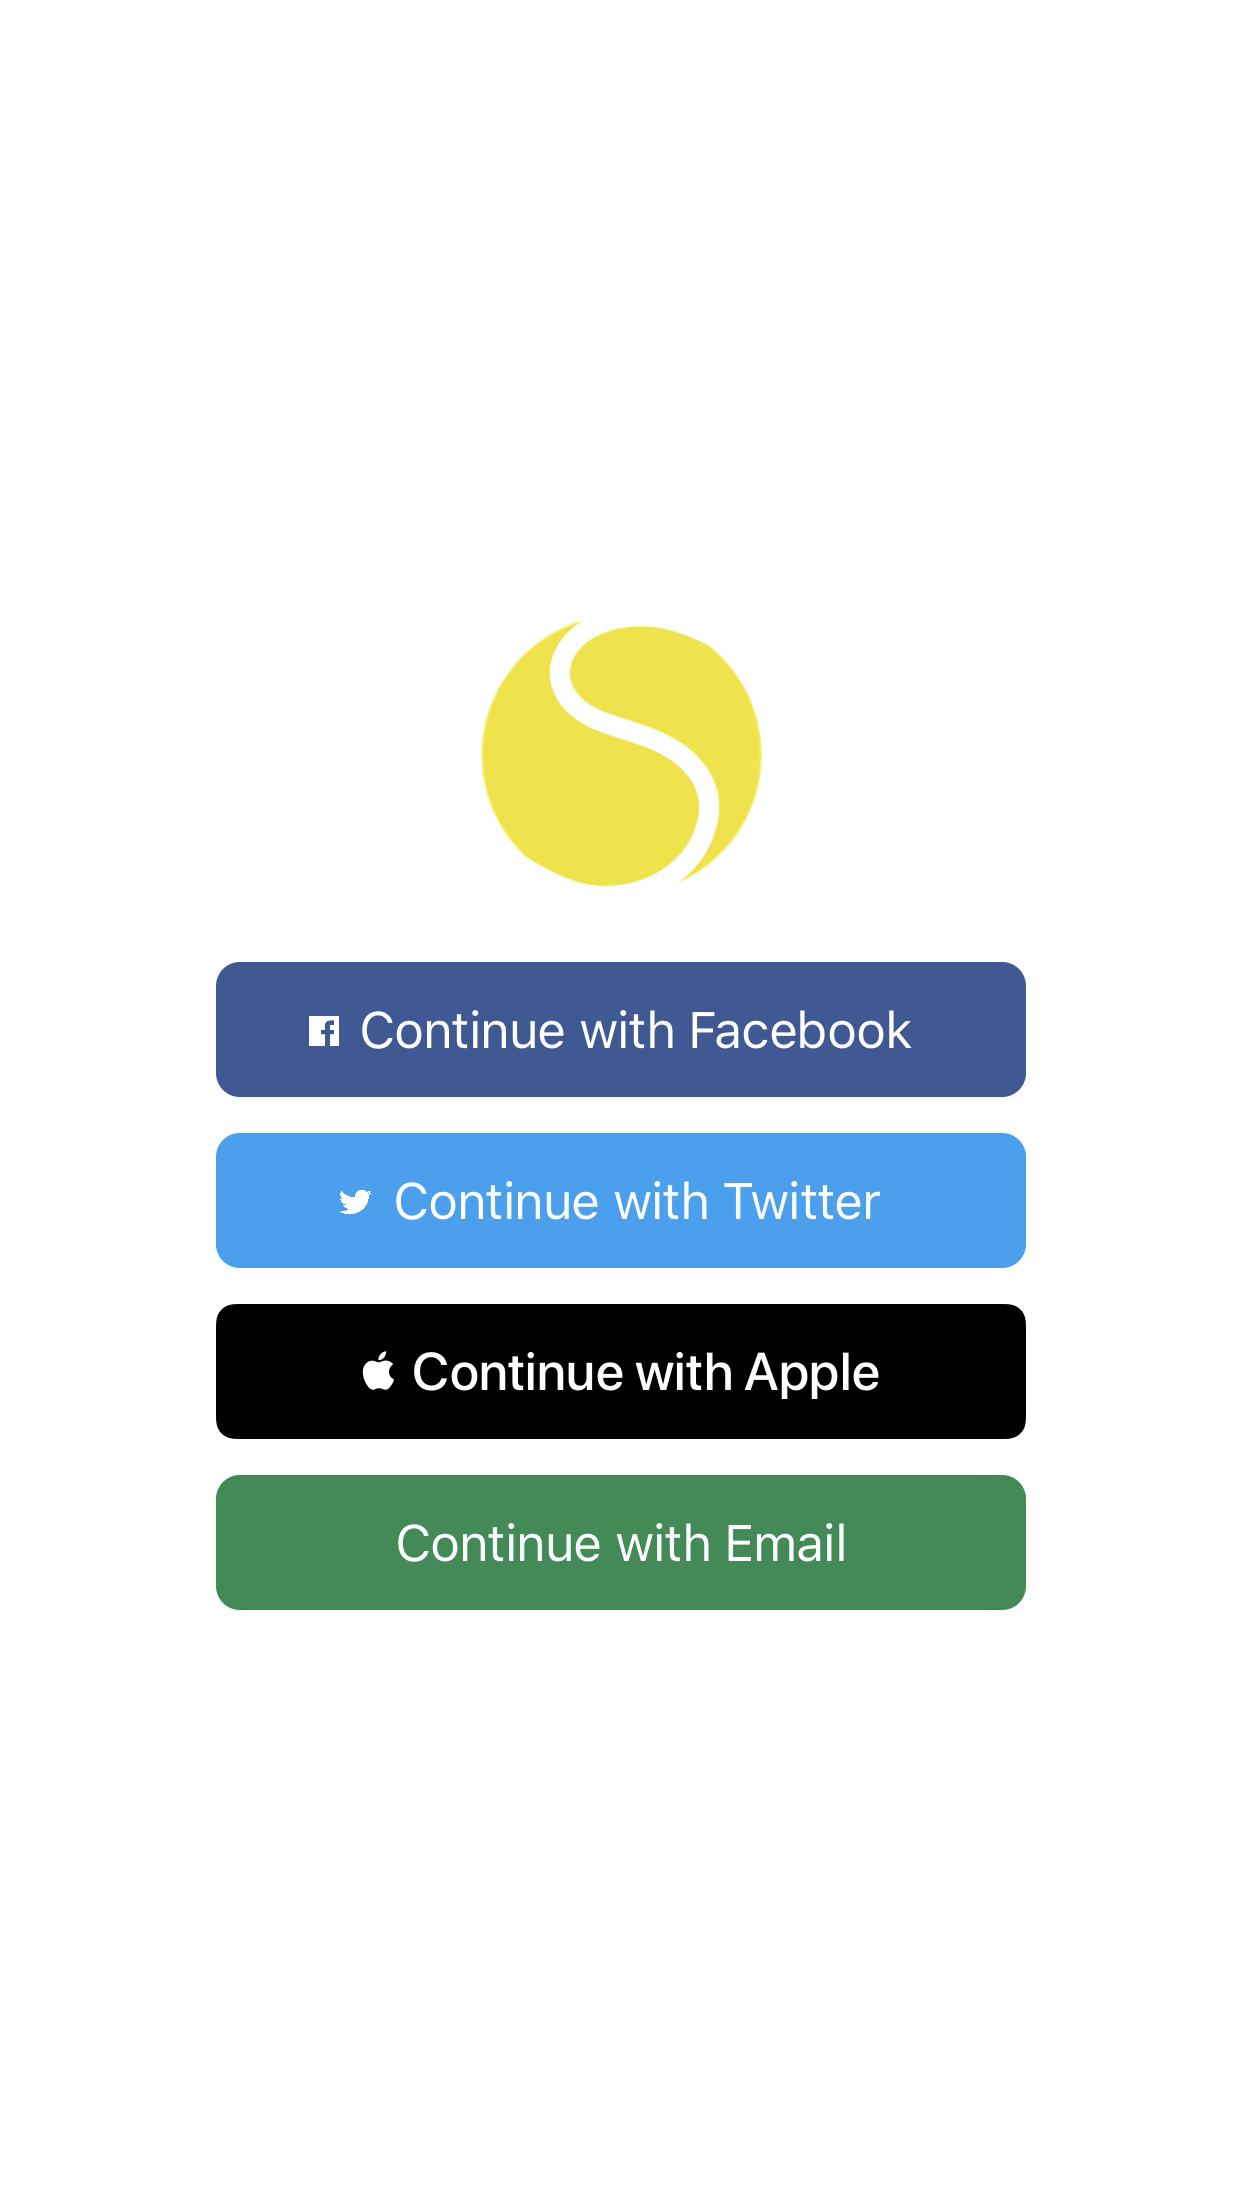Image: (481, 622, 761, 887)
TextButton: (215, 961, 1027, 1096), (215, 1133, 1027, 1268), (215, 1304, 1027, 1439), (215, 1476, 1027, 1611)
